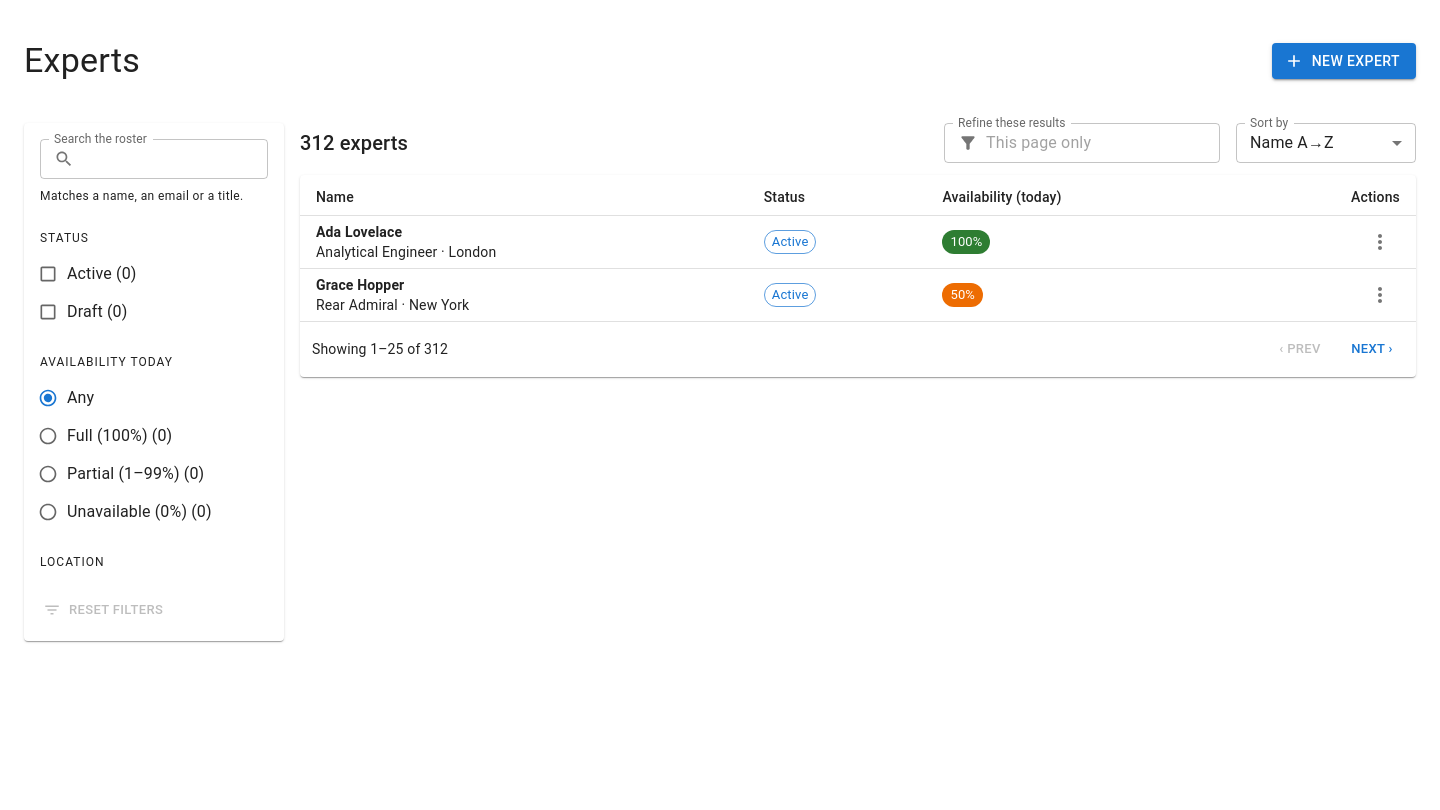
Scenario: a roster row › offers Open, View CV and Edit… and nothing else
Click the button named "Actions for Ada Lovelace".
click(1380, 242)  # box [1360,222,1400,262]
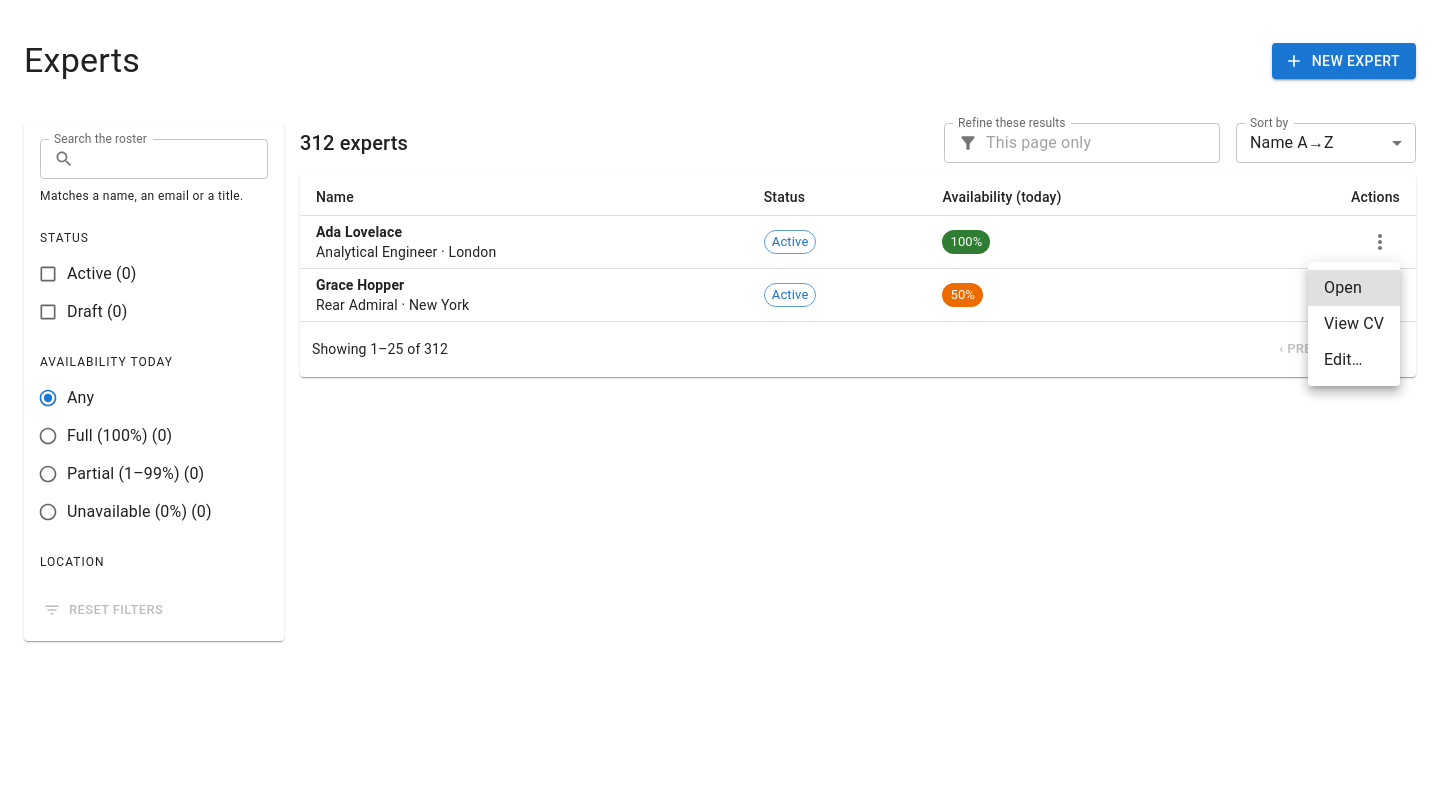
Check: the menu items read "Open", "View CV", "Edit…", in this order, box [1308,270,1400,306]; [1324,314,1384,333]; [1324,350,1363,369]
